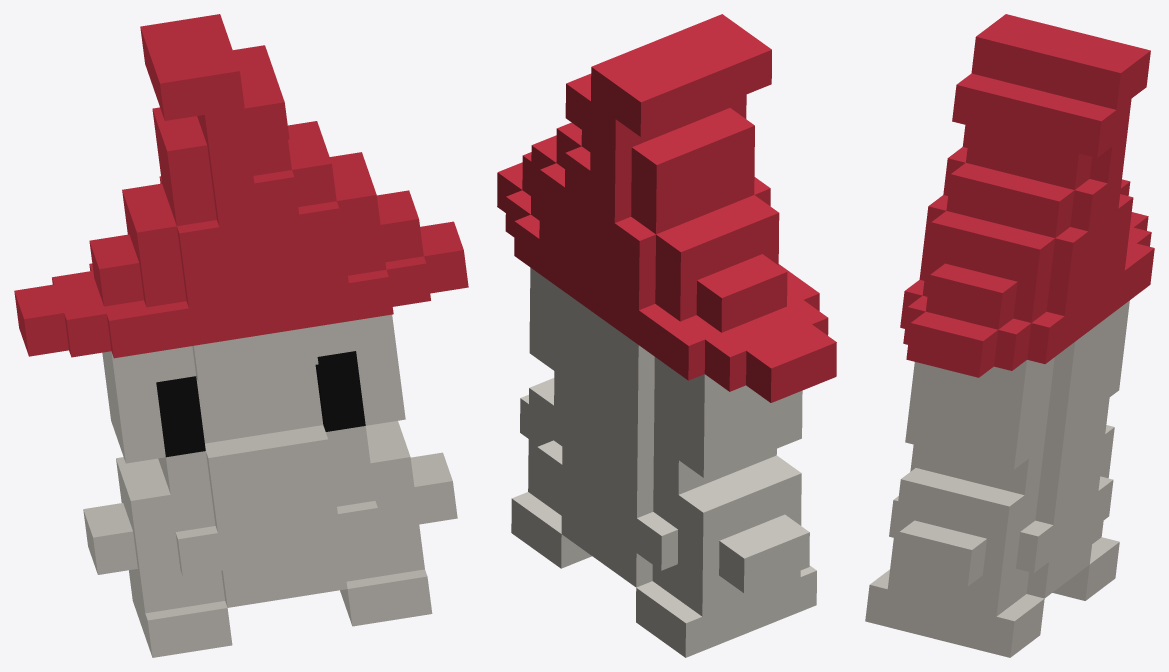
File: wellspring-e39305ec80.glb
3 views of the same model, side by side, from view 1: azimuth 30°, elevation 25°; view 2: azimuth 150°, elevation 25°; view 3: azimuth 270°, elevation 25° (orthographic). The views are drawn at different scales.
Size of the model in its own units: 3.89 by 5.54 by 2.61.
